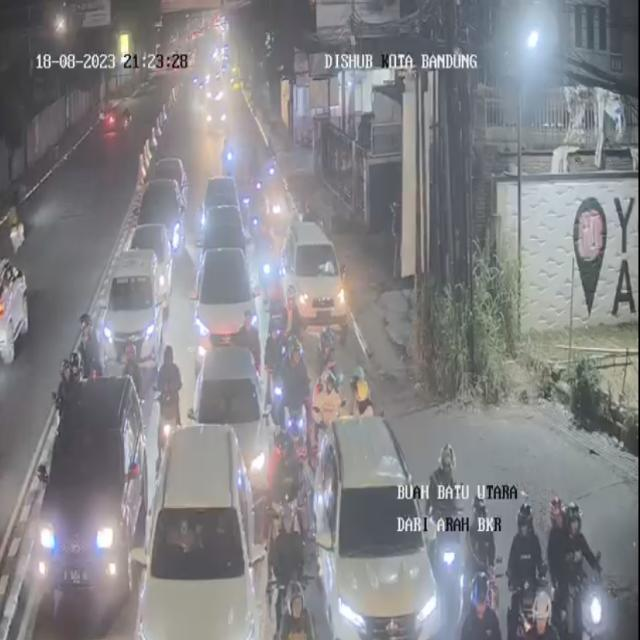cars: (32, 376, 156, 631), (138, 420, 264, 637), (316, 415, 434, 640), (189, 328, 268, 515), (101, 244, 169, 368), (190, 240, 258, 364), (280, 220, 346, 334), (202, 171, 252, 264), (144, 171, 186, 249)
motorcycle: (550, 494, 601, 638), (269, 498, 311, 640), (510, 498, 551, 638), (462, 489, 498, 638), (279, 332, 310, 456), (270, 427, 306, 515), (461, 572, 504, 640), (155, 339, 182, 445), (274, 579, 320, 640), (521, 590, 569, 640), (314, 356, 342, 434), (265, 151, 289, 234), (256, 214, 278, 303), (74, 312, 102, 381), (347, 367, 378, 422), (266, 314, 284, 407), (56, 354, 80, 414), (124, 338, 146, 400)
